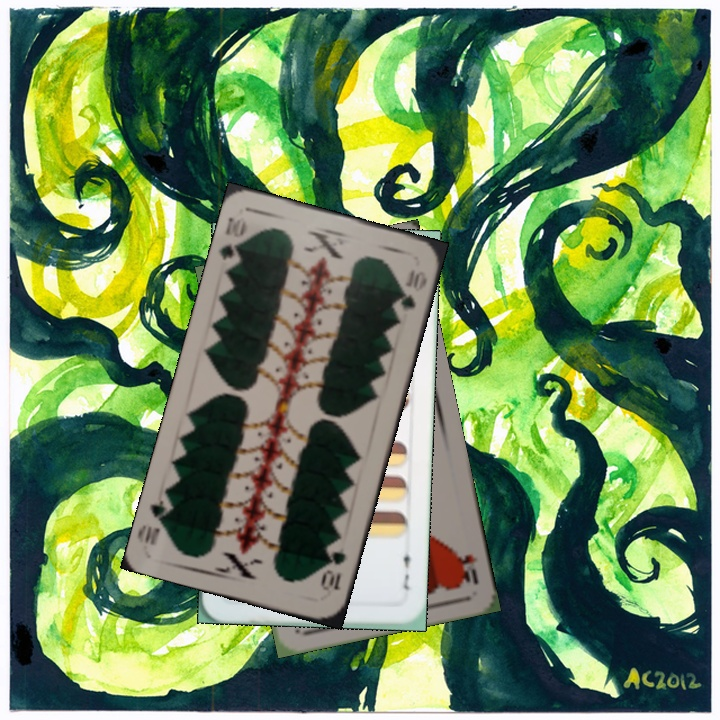E7: (399, 545, 413, 593)
G10: (216, 212, 250, 271), (316, 547, 349, 593)
HO: (452, 546, 481, 588)
